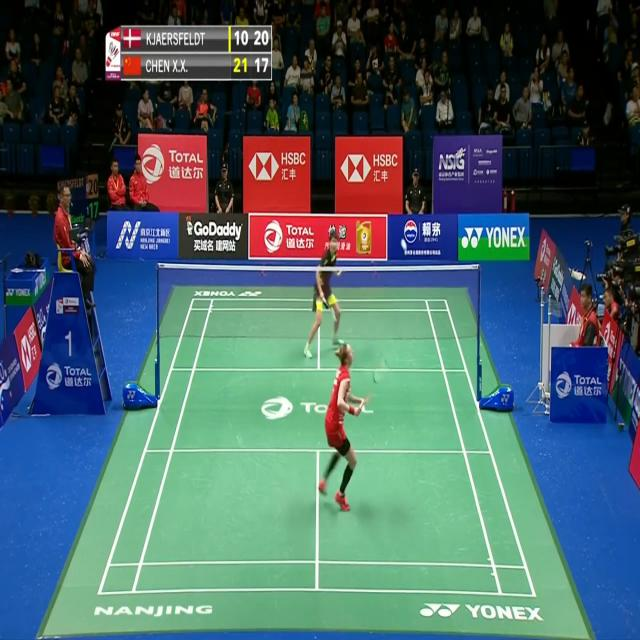Player1: (314, 336, 392, 516)
Player2: (300, 228, 354, 358)
